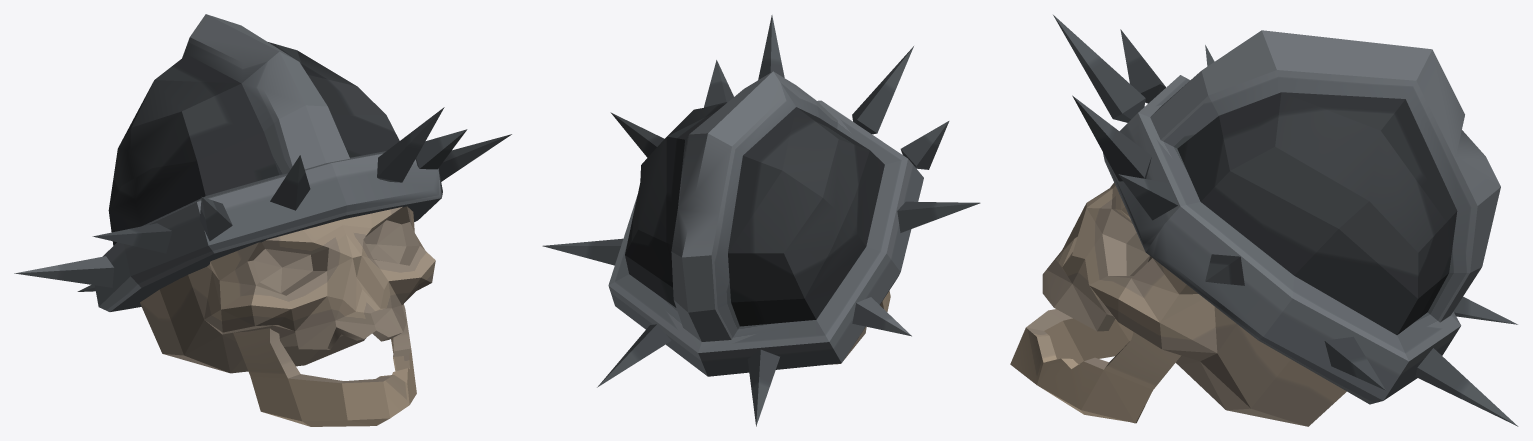
File: SM_Prop_Skull_03.fbx
3 renders of one model, left to right at view 1: azimuth 30°, elevation 25°; view 2: azimuth 150°, elevation 25°; view 3: azimuth 270°, elevation 25°, orthographic. The views are drawn at different scales.
Parts seen in each view (by area): view 1: SM_Prop_Skull_03; view 2: SM_Prop_Skull_03; view 3: SM_Prop_Skull_03.
Boxes of the visible parts, x1,y1,x2,y2 form: SM_Prop_Skull_03: (14, 14, 511, 426); SM_Prop_Skull_03: (542, 15, 980, 426); SM_Prop_Skull_03: (1010, 15, 1518, 426).
Bounding box in the file's own units: 42.03 × 29.68 × 38.03.
